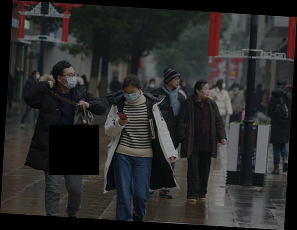with_mask: (62, 70, 79, 90), (123, 87, 141, 102), (34, 72, 41, 82)
without_mask: (200, 84, 211, 98), (171, 76, 181, 87)
